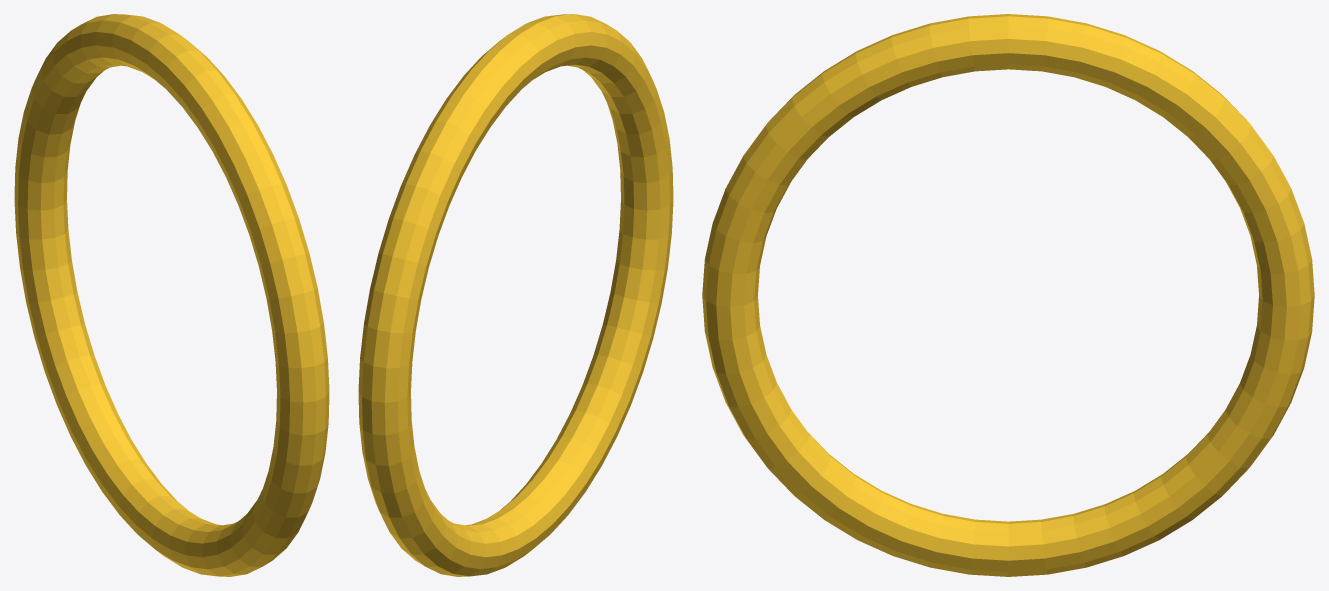
File: torus_for_heart.glb
3 views of the same model, side by side, from view 1: azimuth 30°, elevation 25°; view 2: azimuth 150°, elevation 25°; view 3: azimuth 270°, elevation 25° (orthographic). The views are drawn at different scales.
Parts seen in each view (by area): view 1: Torus.002; view 2: Torus.002; view 3: Torus.002.
Part boxes in pixels (x1,y1,x2,y2): Torus.002: (14,14,329,576); Torus.002: (358,14,673,576); Torus.002: (702,14,1314,576).
Bounding box in the file's own units: 0.0676 × 0.6599 × 0.66.
Materials: 1 (1 with a texture image).
